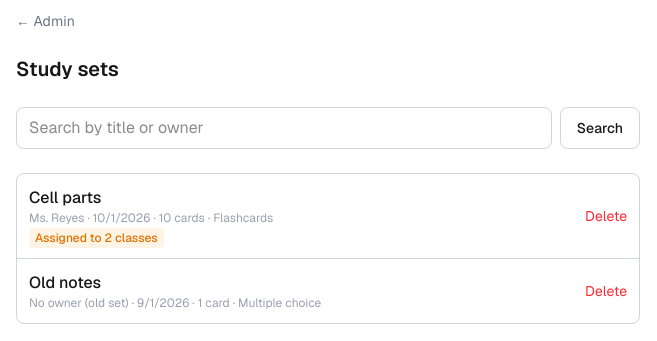
Scenario: admin sets page › warns that an assigned set disappears for its classes, then deletes it
This screenshot has width=657, height=341.
Click the button with aria-label "Delete Cell parts".
click(606, 216)  # box [585,206,627,226]
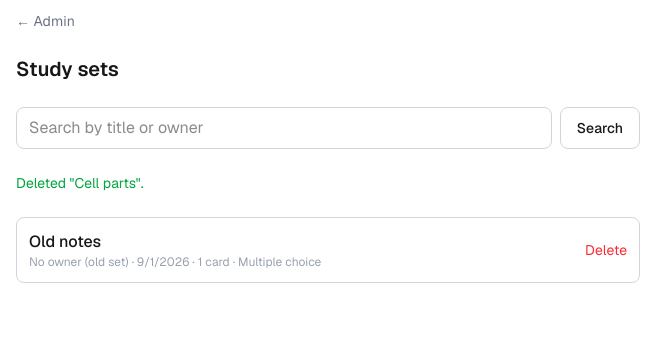
Expected: the message reads "Deleted \"Cell parts\".", [16,174,144,192]
